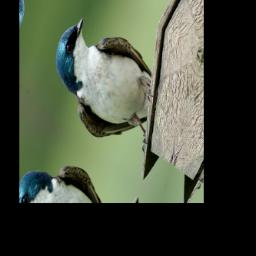Swallow: (42, 0, 171, 169)
